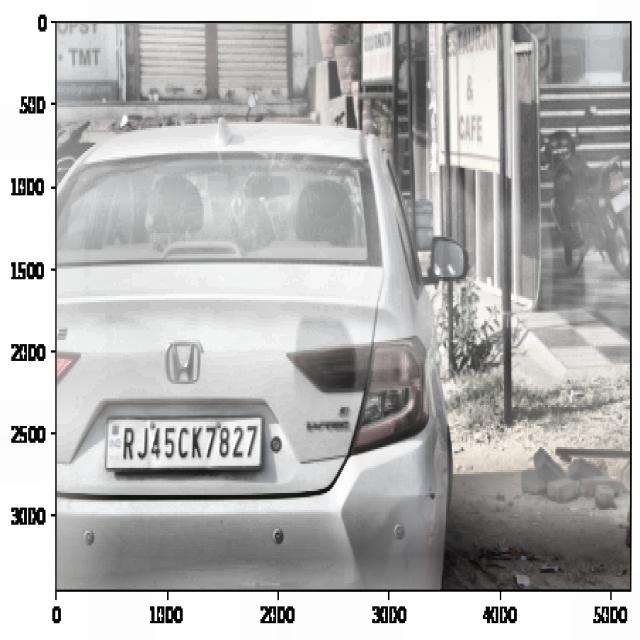license_plate: (110, 418, 264, 468)
